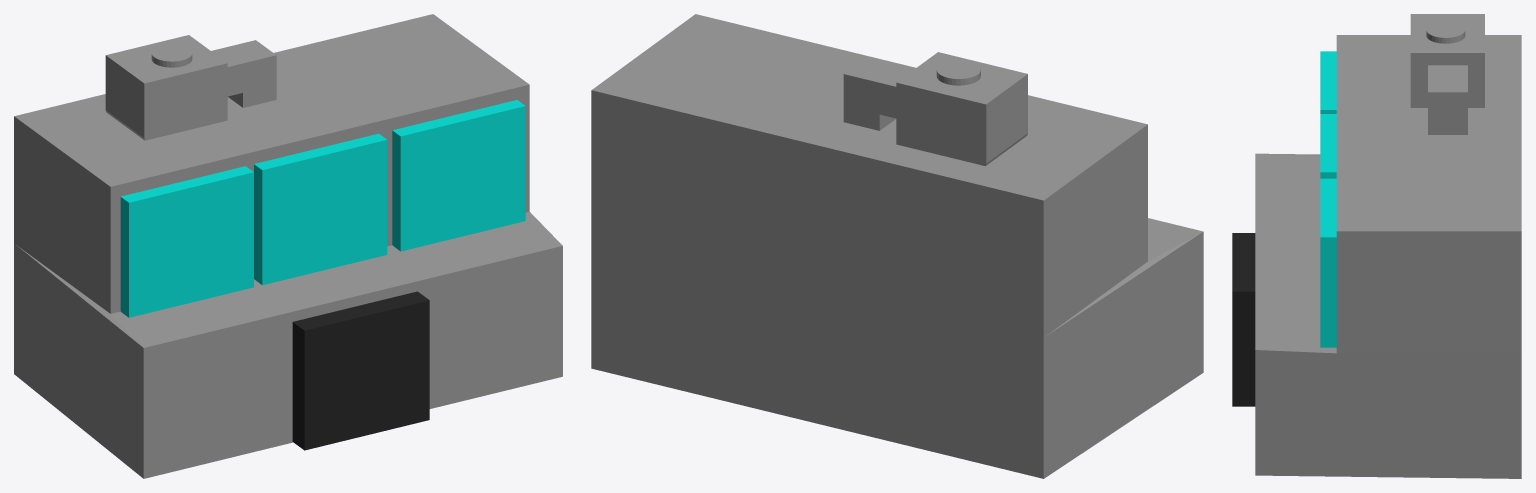
Rendered from building2.fbx.
3 renders of one model, left to right at view 1: azimuth 30°, elevation 25°; view 2: azimuth 150°, elevation 25°; view 3: azimuth 270°, elevation 25°, orthographic. The views are drawn at different scales.
Parts seen in each view (by area): view 1: Cube, Cube.001, Cube.003, Cube.002, Cube.004; view 2: Cube; view 3: Cube, Cube.001, Cube.004, Cube.003, Cube.002.
Part boxes in pixels (left/top/right/bottom): Cube: left=14, top=14, right=562, bottom=478; Cube.001: left=292, top=291, right=429, bottom=450; Cube.003: left=254, top=133, right=387, bottom=285; Cube.002: left=120, top=166, right=253, bottom=317; Cube.004: left=392, top=100, right=525, bottom=251; Cube: left=591, top=14, right=1203, bottom=478; Cube: left=1255, top=14, right=1521, bottom=478; Cube.001: left=1232, top=233, right=1255, bottom=406; Cube.004: left=1320, top=178, right=1336, bottom=347; Cube.003: left=1320, top=114, right=1336, bottom=178; Cube.002: left=1320, top=51, right=1336, bottom=113.
Bounding box in the file's own units: 685 × 492 × 418.
